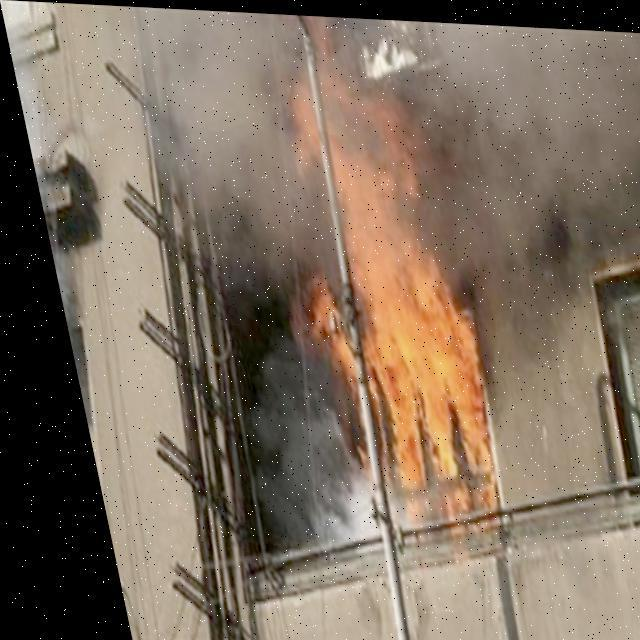Fire: (272, 80, 490, 504)
